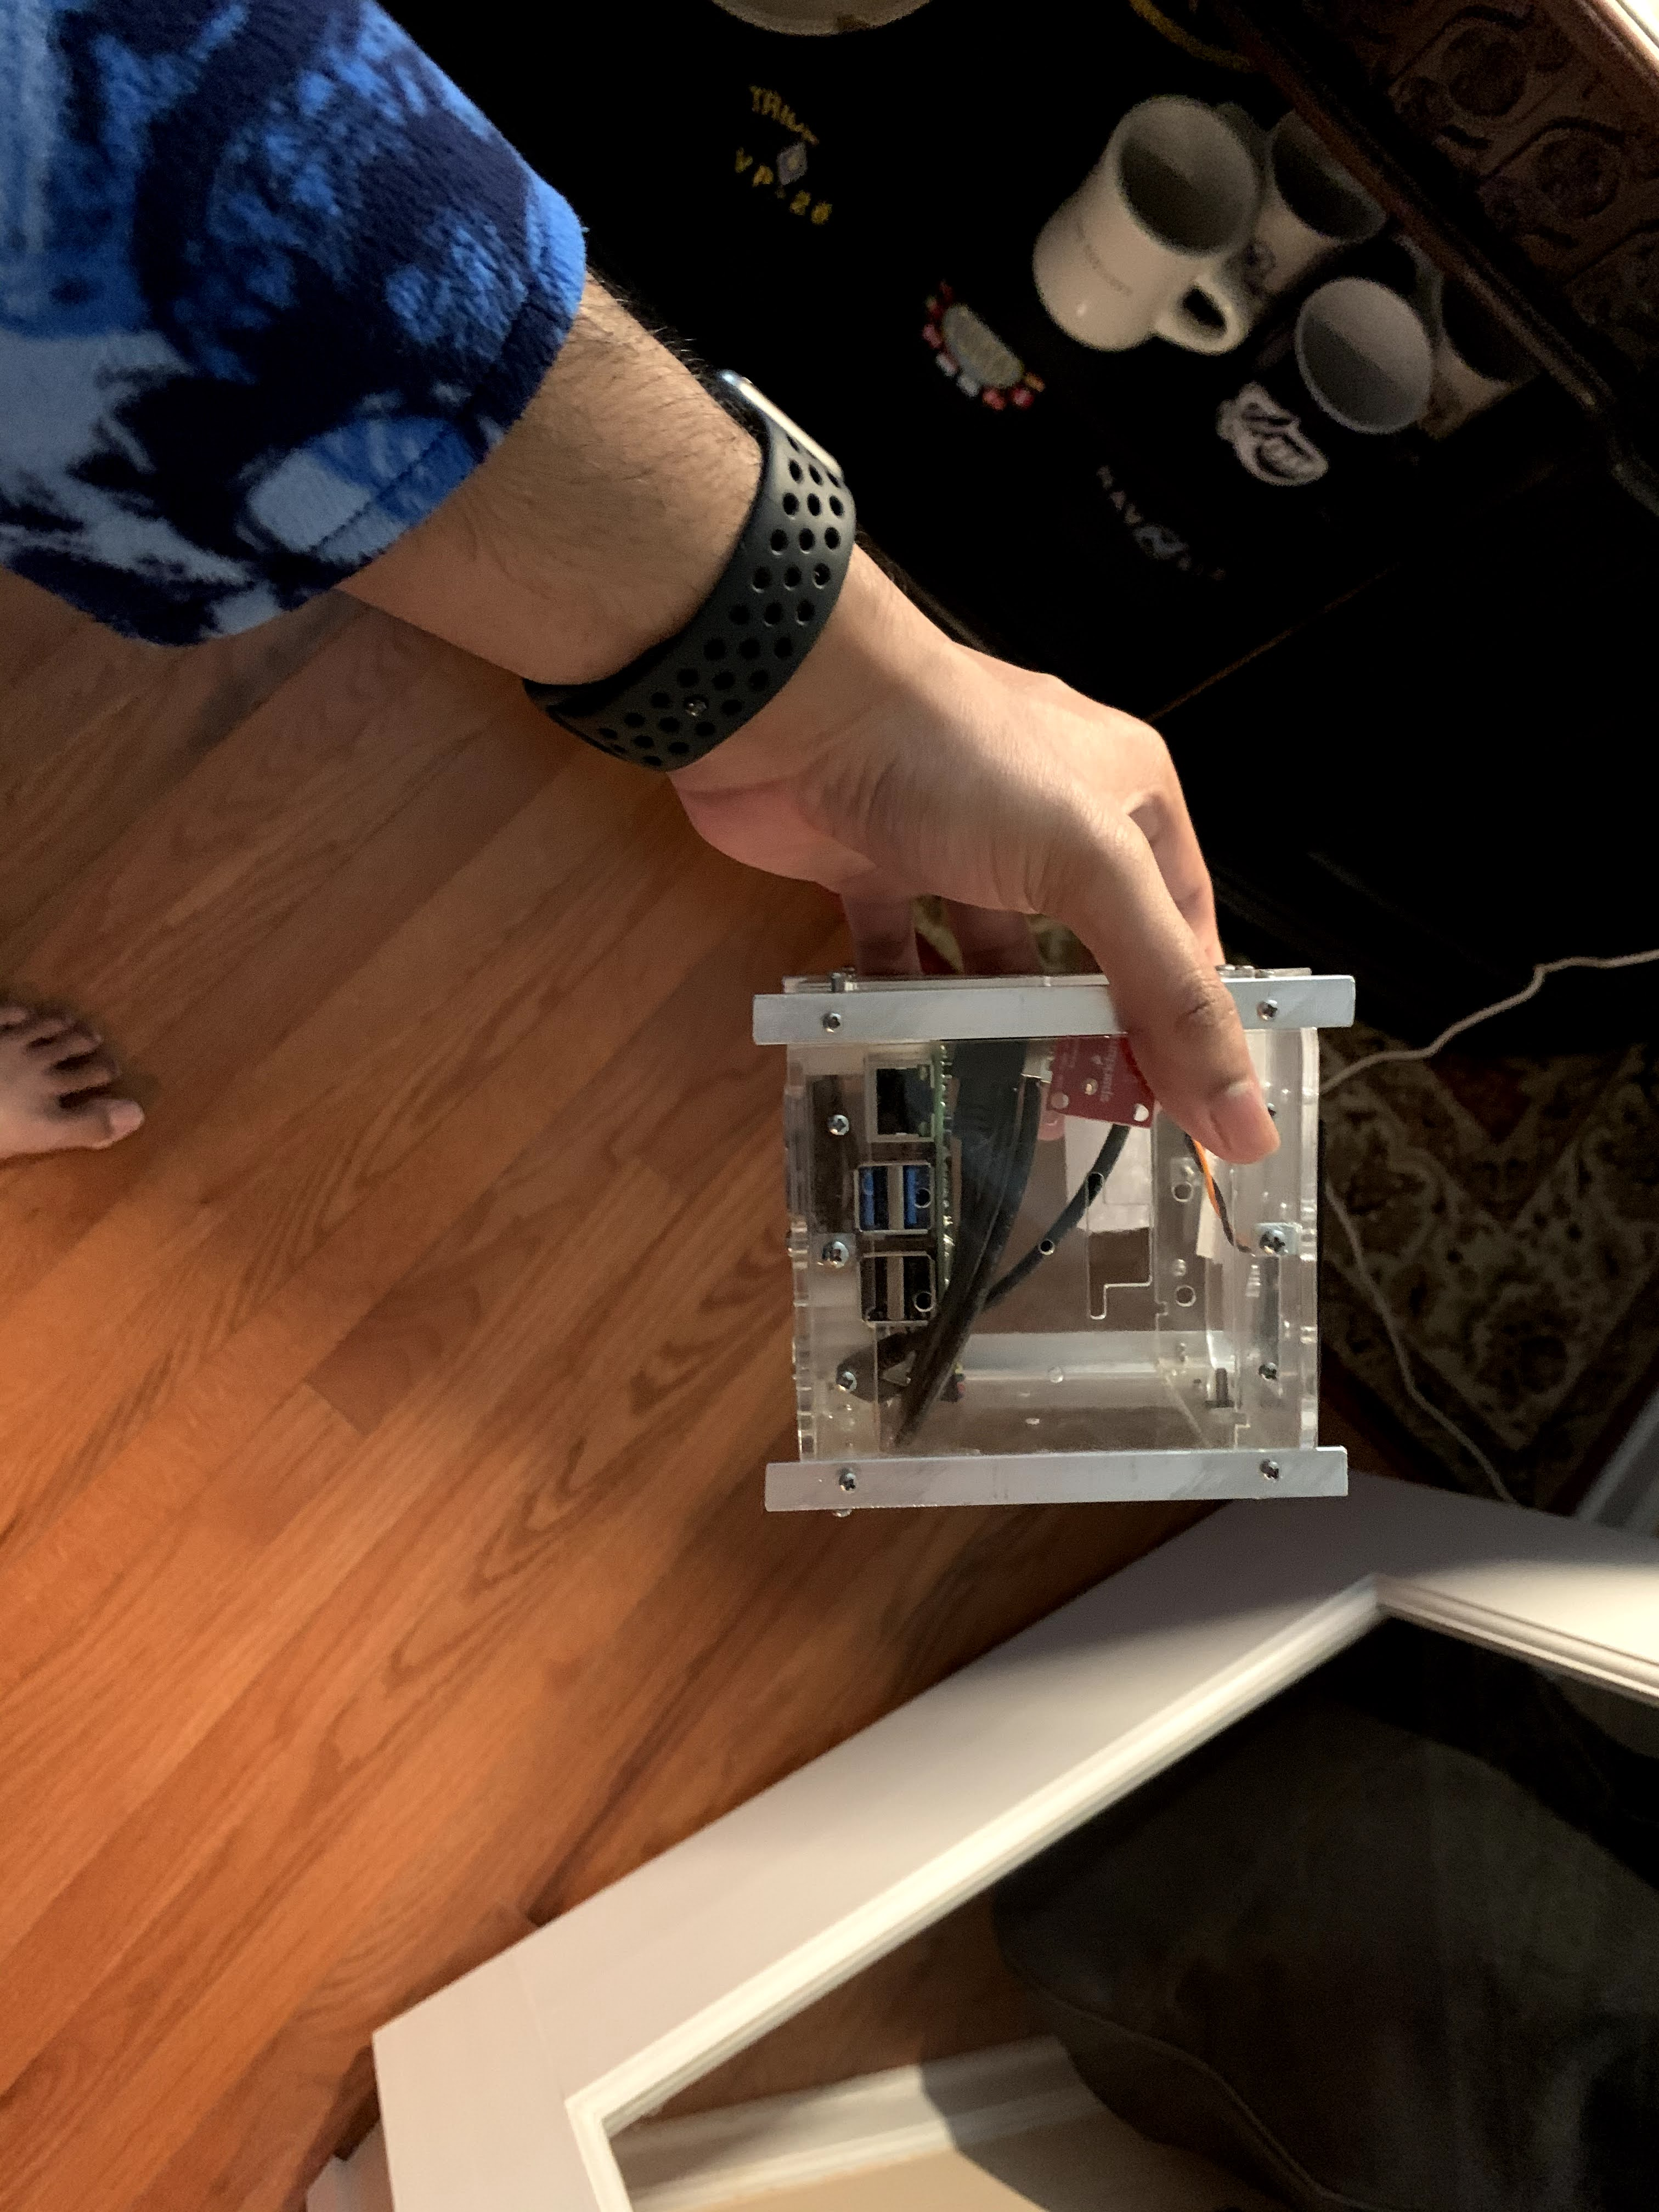Space-debris-cubesat: (723, 927, 1398, 1552)
